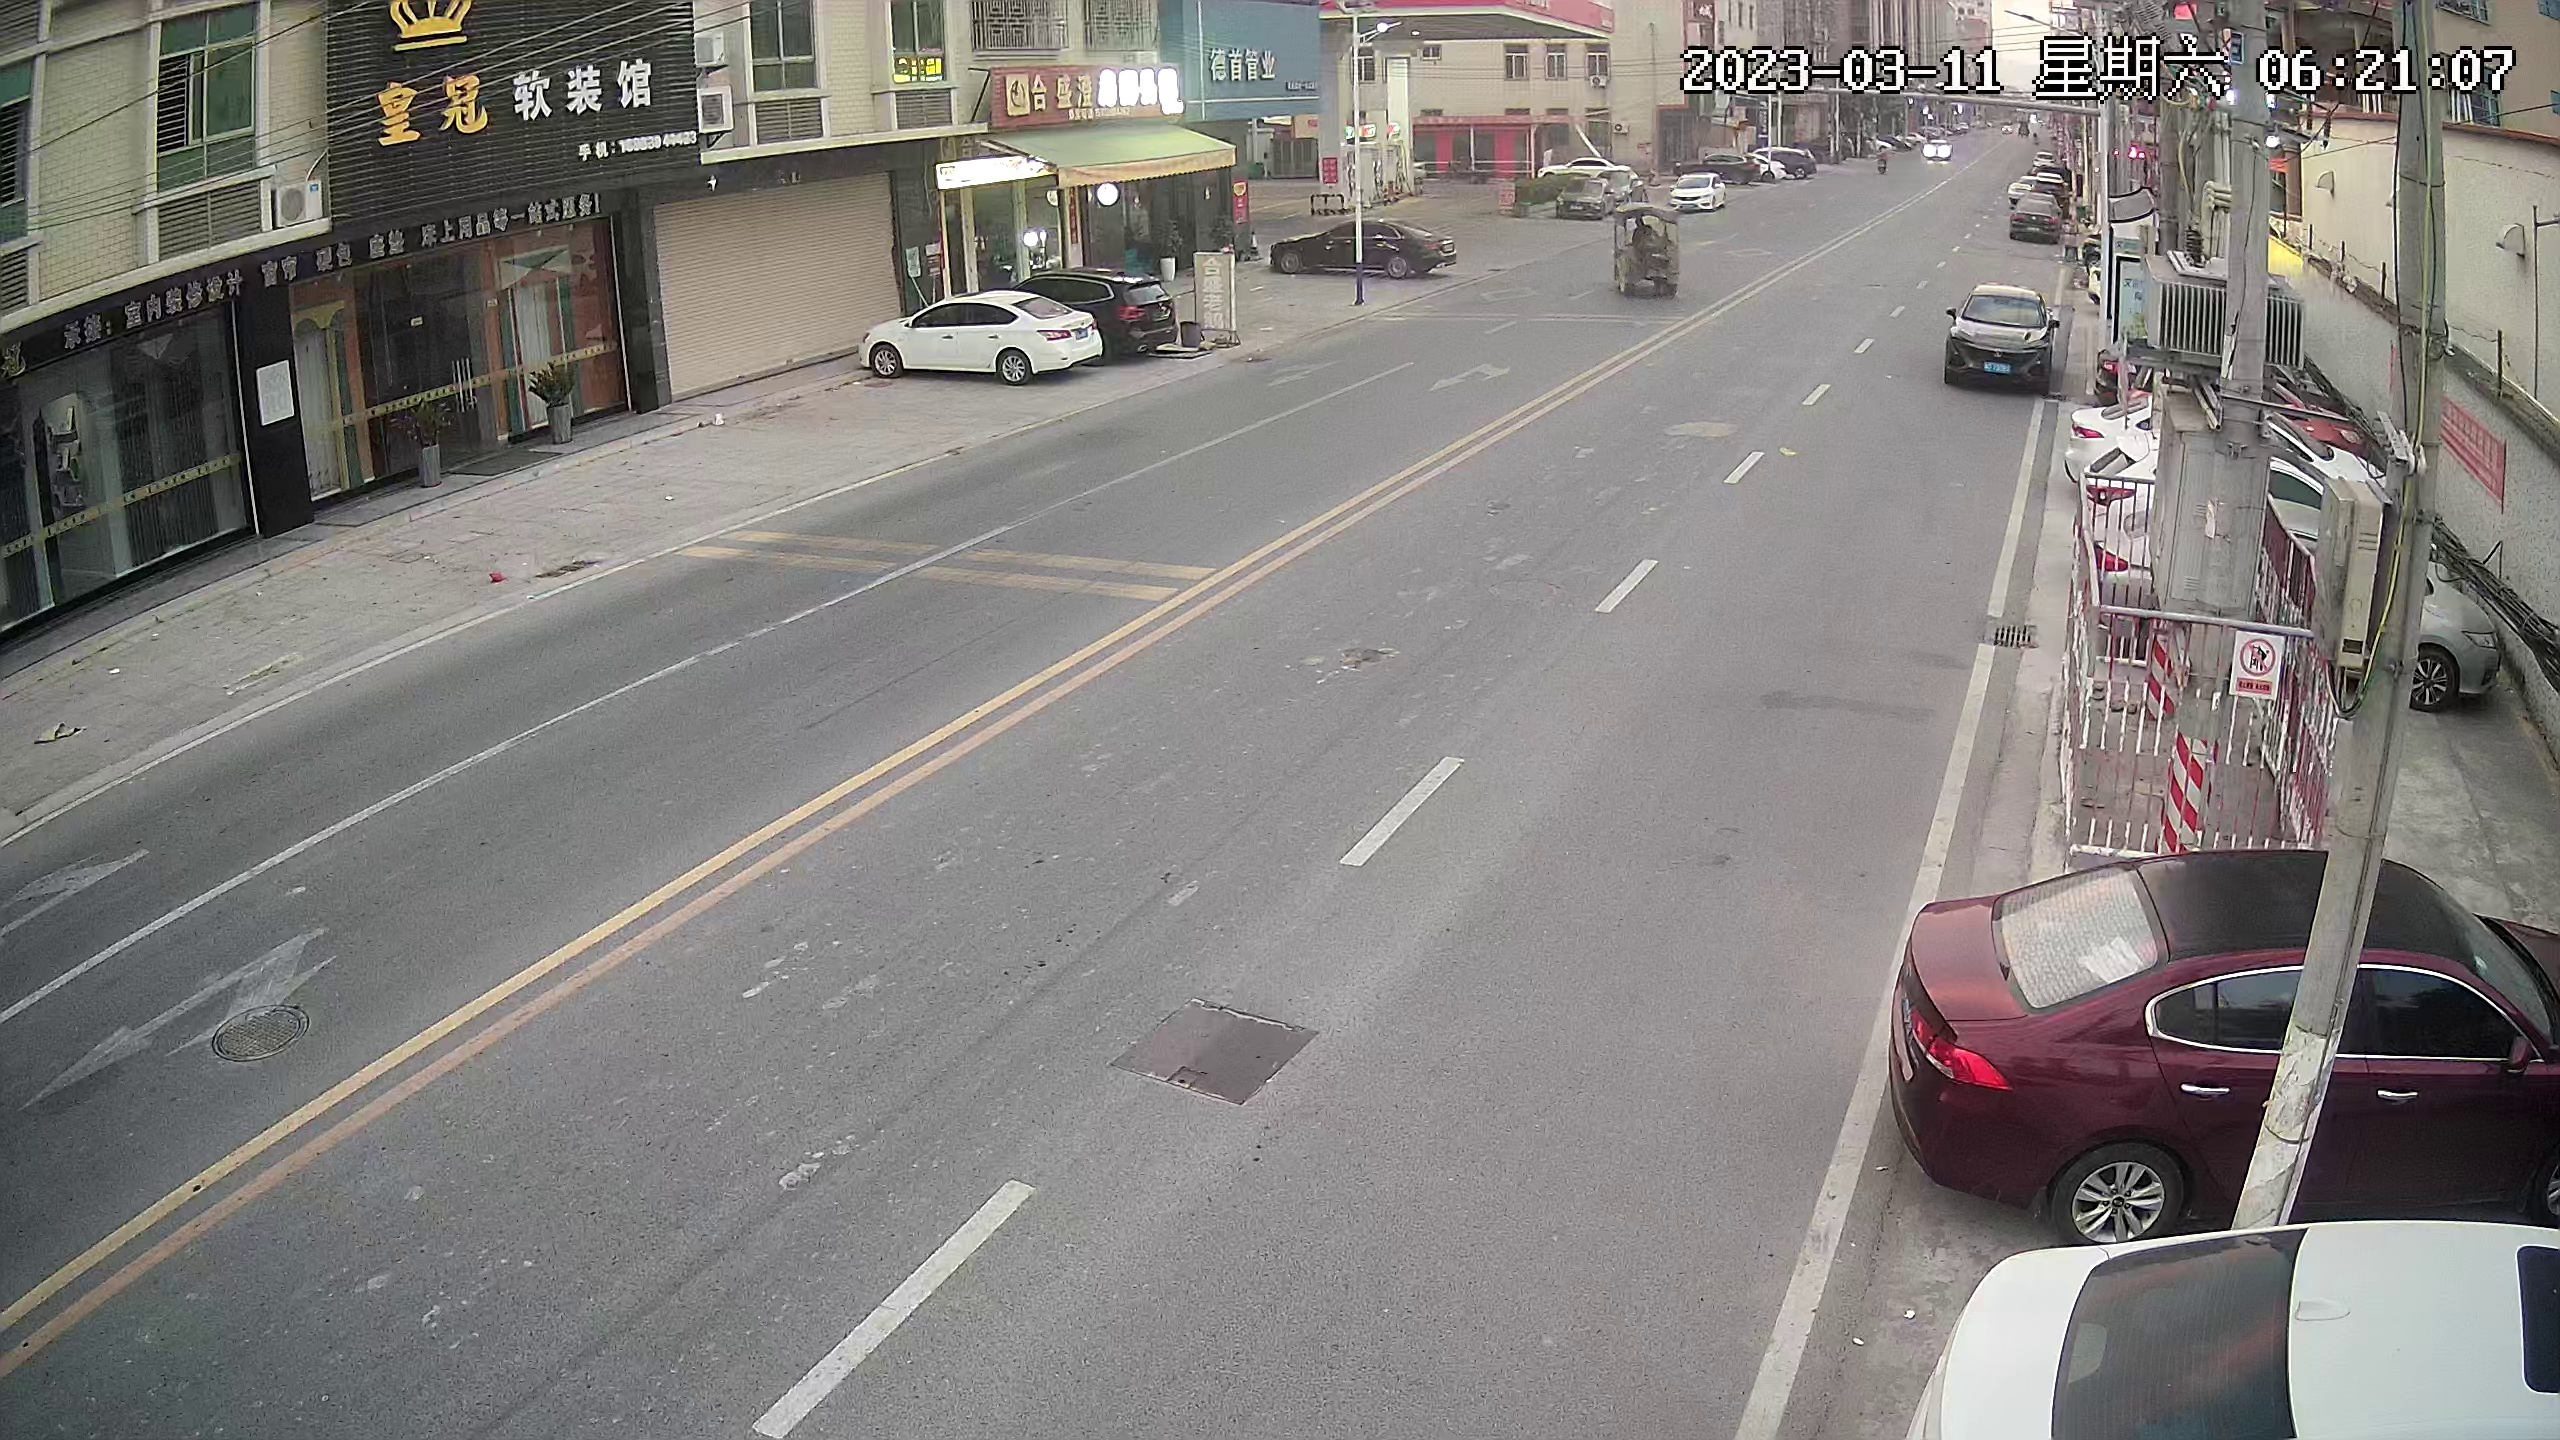motorcycle: (1871, 144, 1895, 183)
sedan: (1909, 835, 2560, 1210), (1950, 1225, 2560, 1440), (2099, 515, 2504, 710), (2092, 433, 2400, 526), (863, 294, 1095, 383), (1269, 216, 1458, 285), (1959, 285, 2054, 382), (2003, 195, 2064, 243), (1674, 172, 1734, 220), (1714, 149, 1778, 190), (1563, 178, 1607, 222), (1931, 134, 1950, 165)
suv: (1053, 269, 1175, 353)
tricycle: (1604, 200, 1684, 302)
